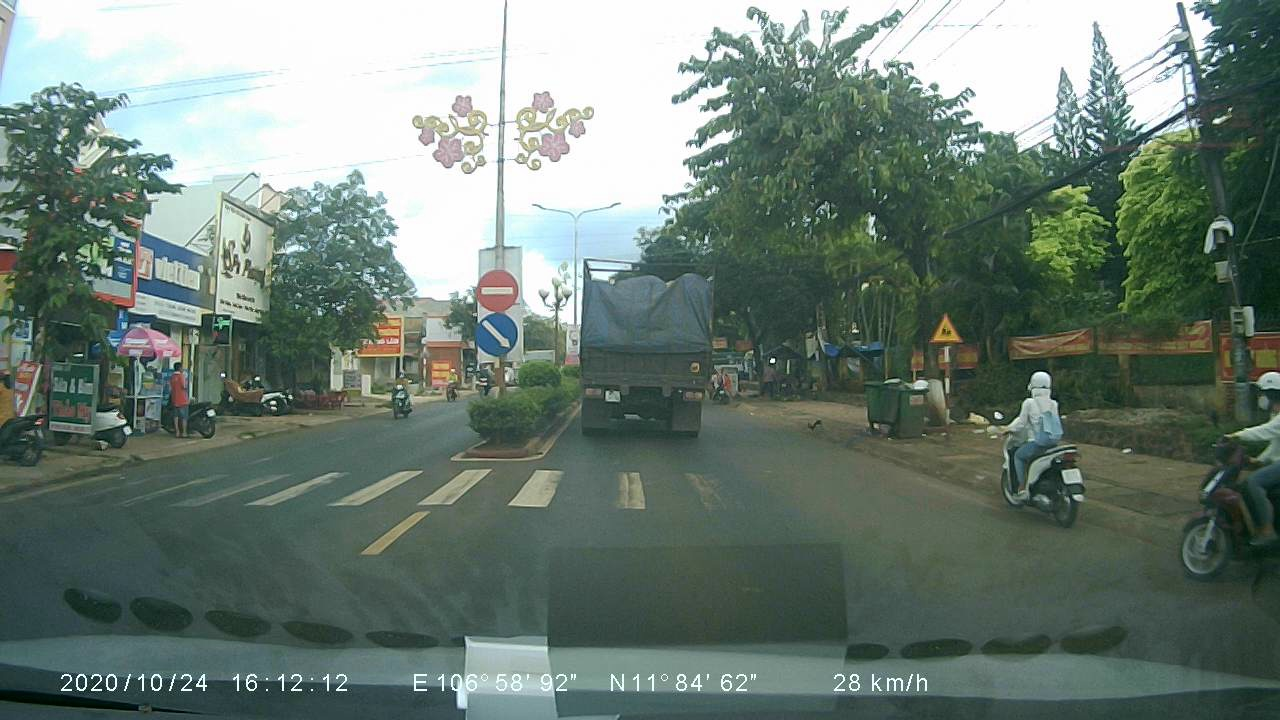Bien khac: (930, 311, 963, 343)
Cam di nguoc chieu: (474, 267, 522, 310)
Huong di phai re phai: (474, 311, 522, 354)
